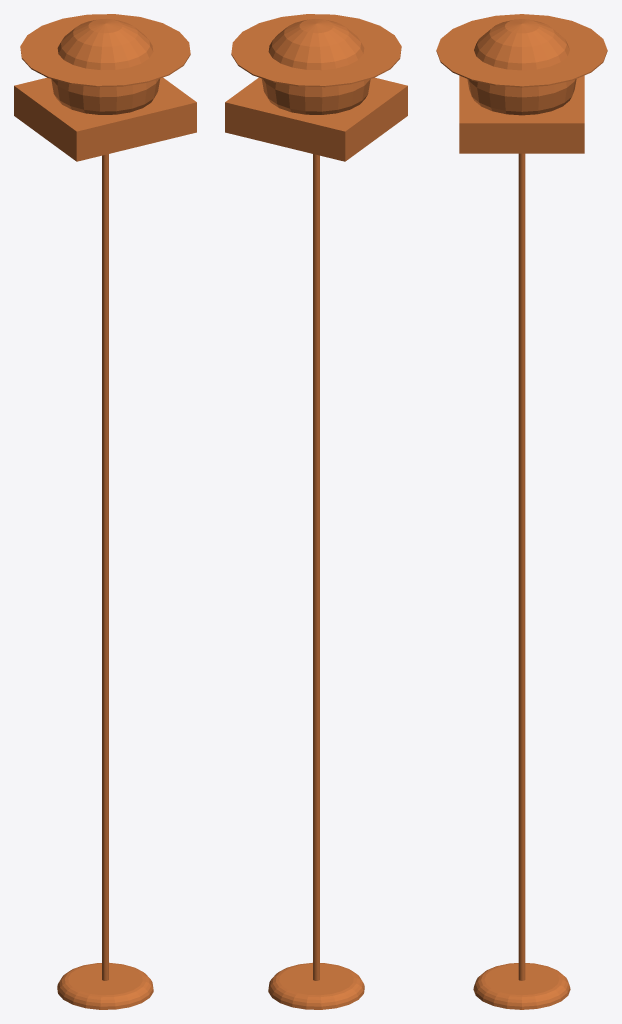
Rendered from plafon.dae.
The picture shows the model from 3 angles, left to right: view 1: azimuth 30°, elevation 25°; view 2: azimuth 150°, elevation 25°; view 3: azimuth 270°, elevation 25°; orthographic projection.
Parts seen in each view (by area): view 1: Plafon_Min; view 2: Plafon_Min; view 3: Plafon_Min.
Boxes of the visible parts, bbox=[...] form: Plafon_Min: bbox=[14, 14, 196, 1009]; Plafon_Min: bbox=[225, 14, 407, 1009]; Plafon_Min: bbox=[436, 14, 607, 1009].
Size of the model in its own units: 0.1357 by 0.1357 by 0.8448.
